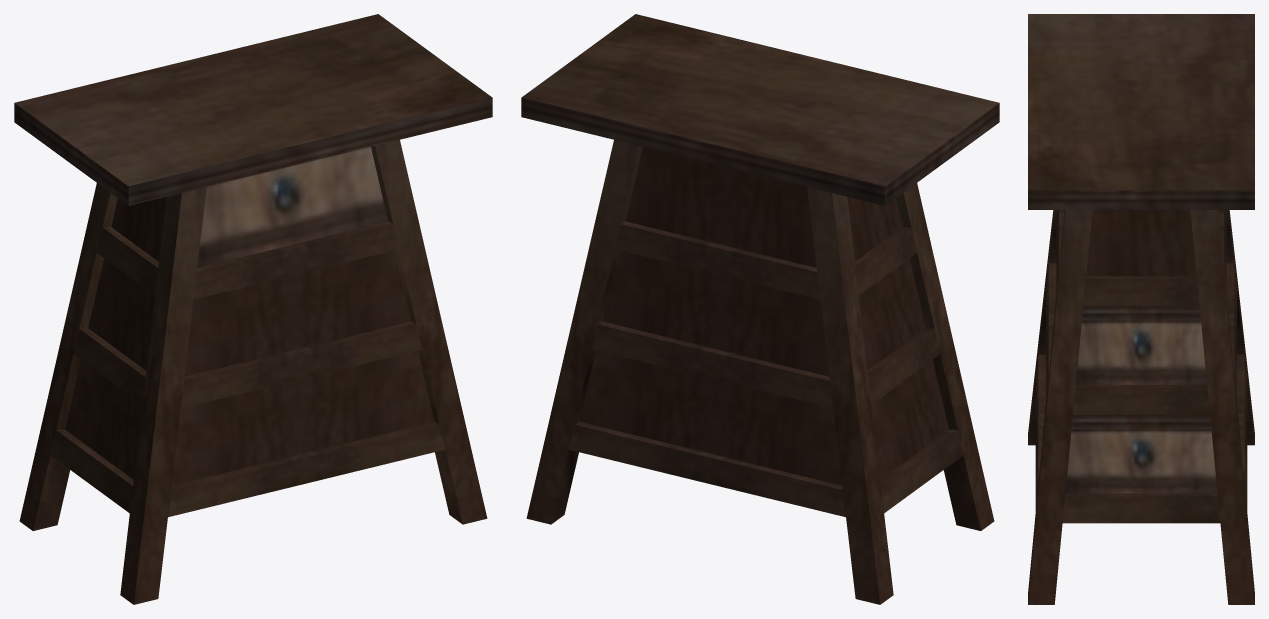
Rendered from table_barber_tools2.fbx.
3 views of the same model, side by side, from view 1: azimuth 30°, elevation 25°; view 2: azimuth 150°, elevation 25°; view 3: azimuth 270°, elevation 25° (orthographic).
Parts seen in each view (by area): view 1: table_frame, table_top; view 2: table_frame, table_top; view 3: table_frame, table_top.
Part boxes in pixels (box(x1,y1,x2,y2)): table_frame: box(19, 140, 487, 604); table_top: box(14, 14, 492, 205); table_frame: box(526, 140, 994, 604); table_top: box(521, 14, 999, 205); table_frame: box(1028, 210, 1254, 604); table_top: box(1028, 14, 1254, 209).
Bounding box in the file's own units: 146 × 161 × 79.52.
1 material, 1 textured.
